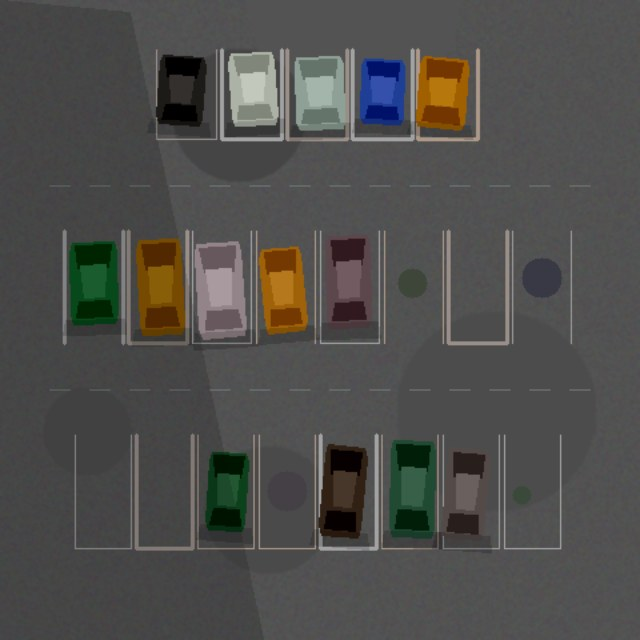space-empty: (384, 231, 443, 343), (448, 231, 507, 343), (512, 231, 571, 343), (75, 435, 131, 548), (136, 435, 192, 548), (259, 435, 315, 548), (504, 435, 560, 548)
space-occupied: (64, 231, 123, 343), (128, 231, 187, 343), (192, 231, 251, 343), (256, 231, 315, 343), (320, 231, 379, 343), (197, 435, 253, 548), (320, 435, 376, 548), (381, 435, 437, 548), (443, 435, 499, 548), (156, 49, 216, 139), (221, 49, 281, 139), (287, 49, 347, 139), (352, 49, 412, 139), (417, 49, 477, 139)
